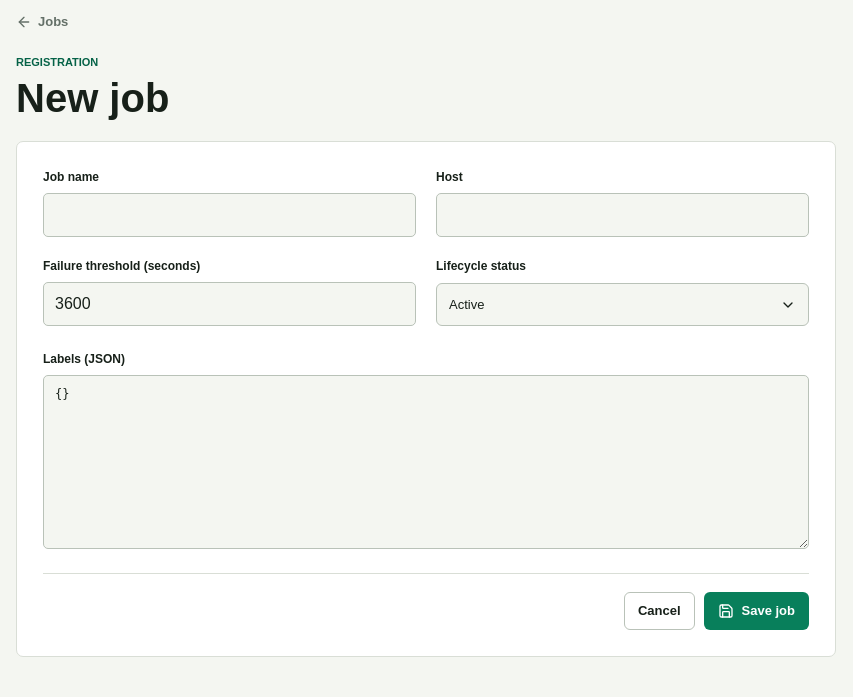
Test: JobFormPage › rejects non-object labels JSON []
Step 1. Replace the text in the text box labelled "Labels (JSON)" with "[]" → (426, 462), box [43,375,809,548]
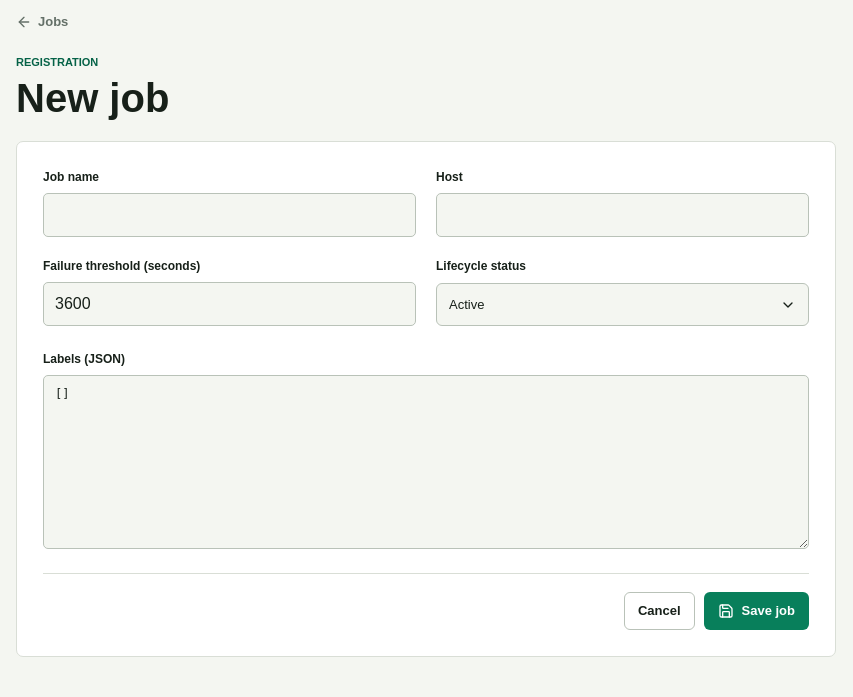
Step 2. Click the button "Save job" → (756, 610), box [704,592,809,630]
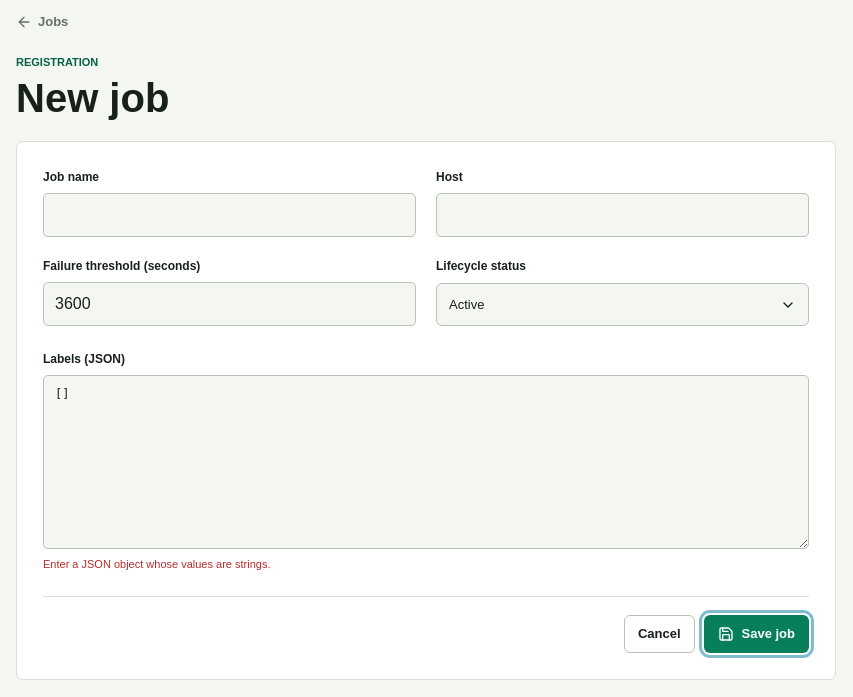
Expected: the text "Enter a JSON object whose values are strings." is shown, [43,558,270,570]
